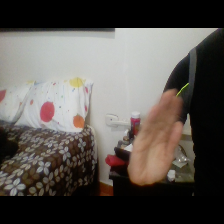left: (130, 83, 185, 184)
